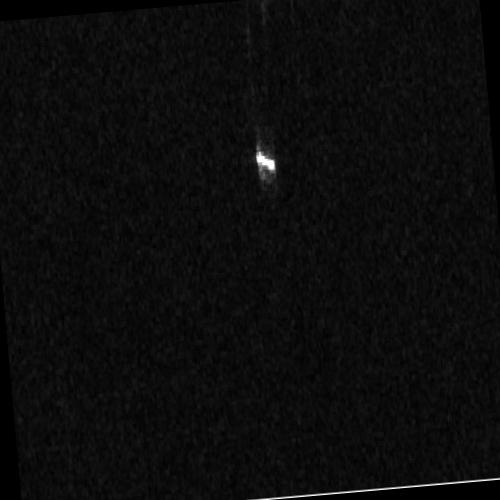ship: (254, 151, 276, 169)
